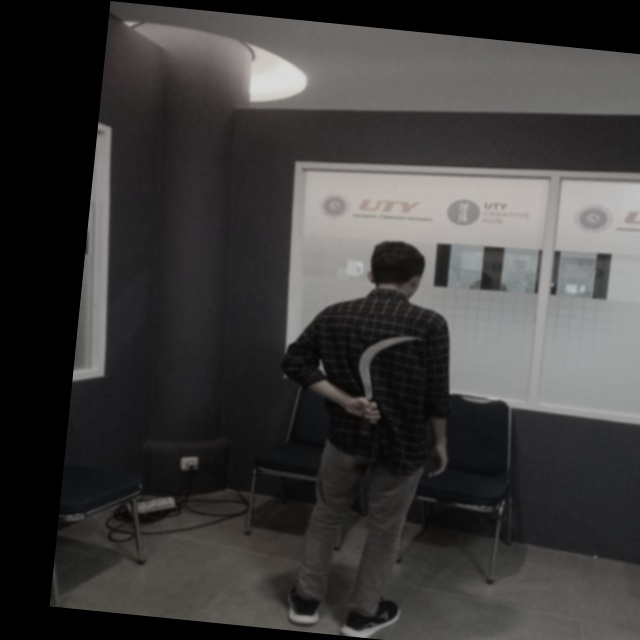Sharp-Object: (342, 321, 430, 442)
